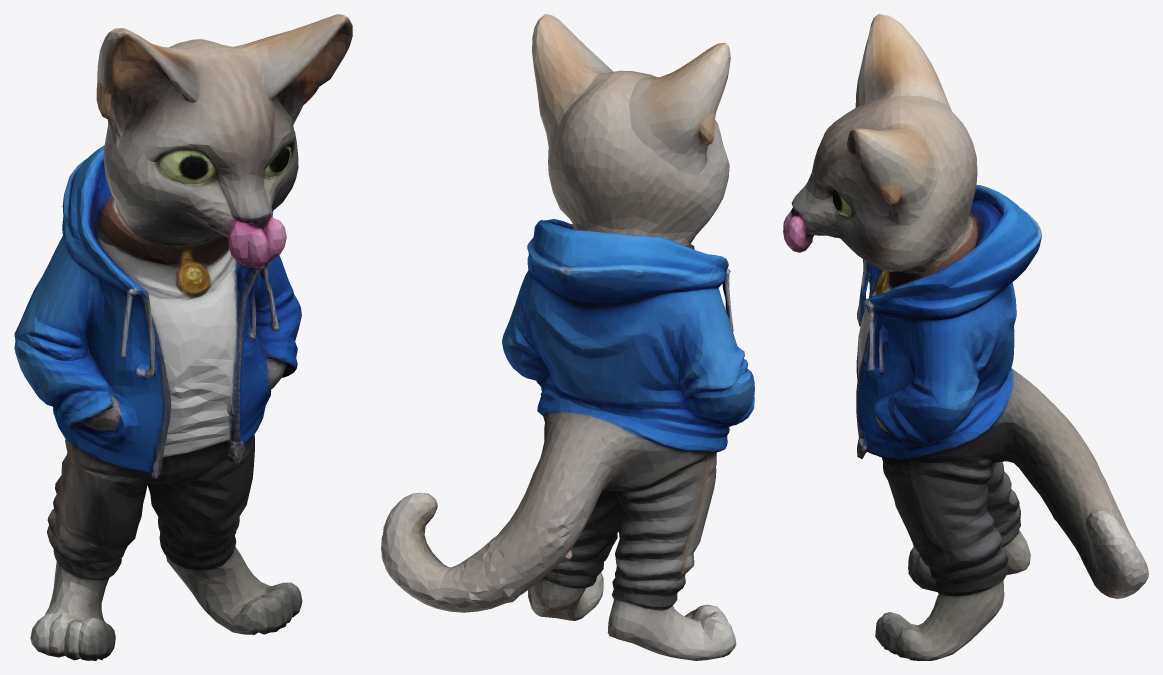
File: pureum.glb
3 views of the same model, side by side, from view 1: azimuth 30°, elevation 25°; view 2: azimuth 150°, elevation 25°; view 3: azimuth 270°, elevation 25° (orthographic). The views are drawn at different scales.
Visible parts, largest first — view 1: attic_pureum; view 2: attic_pureum; view 3: attic_pureum.
Part boxes in pixels (x1=…): attic_pureum: x1=14, y1=14, x2=352, y2=660; attic_pureum: x1=381, y1=14, x2=754, y2=660; attic_pureum: x1=783, y1=14, x2=1148, y2=660.
Size of the model in its own units: 0.4923 by 1 by 0.5812.
1 material, 1 textured.
